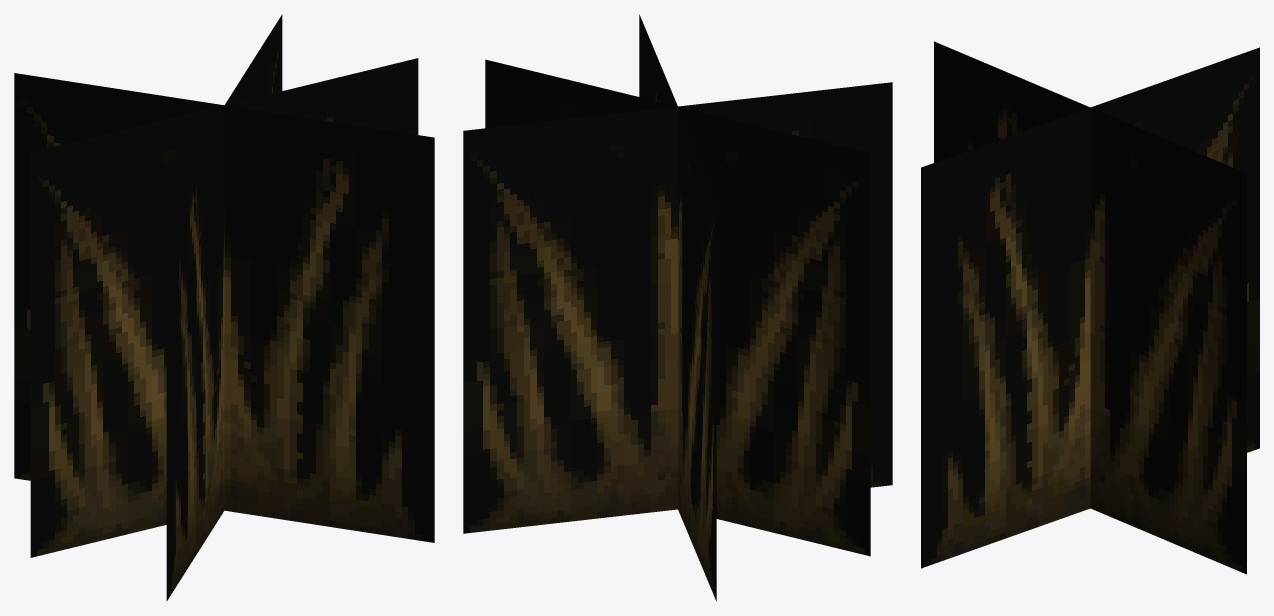
File: INST_OH_SPIKE_GRASS_03.fbx
The picture shows the model from 3 angles, left to right: view 1: azimuth 30°, elevation 25°; view 2: azimuth 150°, elevation 25°; view 3: azimuth 270°, elevation 25°; orthographic projection.
Parts seen in each view (by area): view 1: INST_OH_SPIKE_GRASS_03; view 2: INST_OH_SPIKE_GRASS_03; view 3: INST_OH_SPIKE_GRASS_03.
Part boxes in pixels (left/top/right/bottom): INST_OH_SPIKE_GRASS_03: left=14, top=14, right=434, bottom=601; INST_OH_SPIKE_GRASS_03: left=463, top=14, right=892, bottom=601; INST_OH_SPIKE_GRASS_03: left=921, top=41, right=1259, bottom=574.
Bounding box in the file's own units: 5545 × 5545 × 4248.
Materials: 1 (1 with a texture image).
